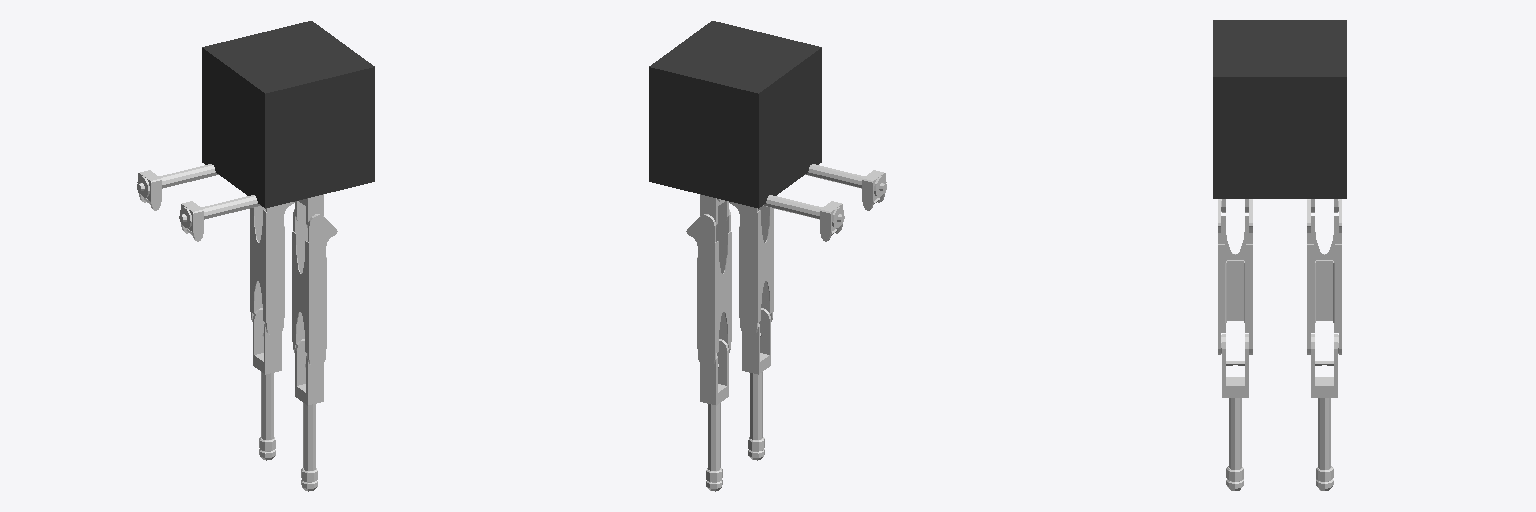
The robot description file, URDF, robot "biped":
<robot name="biped">
  <link name="base">
    <visual>
      <geometry>
        <box size="0.30 0.30 0.30"/>
      </geometry>
      <material name="gray">
        <color rgba="0.3 0.3 0.3 1.0"/>
      </material>
    </visual>
  </link>

  <!-- LEFT LEG -->
  <link name="L_hipassembly">
    <visual>
      <origin rpy="0.0 0.0 0.0" xyz="0.0 0.0 0.0"/>
      <geometry>
        <mesh filename="package://xpp_hyq/meshes/leg/hipassembly.dae" scale="1 1 1"/>
      </geometry>
      <material name="white"/>
    </visual>
  </link>
  <link name="L_upperleg">
    <visual>
      <origin rpy="0.0 0.0 0.0" xyz="0.0 0.0 0.0"/>
      <geometry>
        <mesh filename="package://xpp_hyq/meshes/leg/upperleg.dae" scale="1 1 1"/>
      </geometry>
      <material name="blue"/>
    </visual>
  </link>
  <link name="L_lowerleg">
    <visual>
      <geometry>
        <mesh filename="package://xpp_hyq/meshes/leg/lowerleg.dae" scale="1 1 1"/>
      </geometry>
      <material name="blue"/>
    </visual>
  </link>

  <joint name="L_haa_joint" type="revolute">
    <origin xyz="0.00000 0.1 -0.15000" rpy="2.0344439357957036 1.5707962290814481 -1.1071487177940917"/>
    <parent link="base"/>
    <child link="L_hipassembly"/>
    <limit effort="200" lower="-1.6" upper="1.6" velocity="1.0"/>
    <axis xyz="0 0 1"/>
  </joint>
  <joint name="L_hfe_joint" type="revolute">
    <origin xyz="0.08000 0.00000 0.00000" rpy="1.5707963705062866 -0.0 0.0"/>
    <parent link="L_hipassembly"/>
    <child link="L_upperleg"/>
    <limit effort="200" lower="-1.6" upper="1.6" velocity="1.0"/>
    <axis xyz="0 0 1"/>
  </joint>
  <joint name="L_kfe_joint" type="revolute">
    <origin xyz="0.35000 0.00000 0.00000" rpy="0.0 0.0 0.0"/>
    <parent link="L_upperleg"/>
    <child link="L_lowerleg"/>
    <limit effort="200" lower="-1.6" upper="1.6" velocity="1.0"/>
    <axis xyz="0 0 1"/>
  </joint>



  <!-- RIGHT LEG -->
  <link name="R_hipassembly">
    <visual>
      <origin rpy="0.0 0.0 0.0" xyz="0.0 0.0 0.0"/>
      <geometry>
        <mesh filename="package://xpp_hyq/meshes/leg/hipassembly.dae" scale="1 1 1"/>
      </geometry>
      <material name="white"/>
    </visual>
  </link>
  <link name="R_upperleg">
    <visual>
      <origin rpy="0.0 0.0 0.0" xyz="0.0 0.0 0.0"/>
      <geometry>
        <mesh filename="package://xpp_hyq/meshes/leg/upperleg.dae" scale="1 1 1"/>
      </geometry>
      <material name="blue"/>
    </visual>
  </link>
  <link name="R_lowerleg">
    <visual>
      <geometry>
        <mesh filename="package://xpp_hyq/meshes/leg/lowerleg.dae" scale="1 1 1"/>
      </geometry>
      <material name="blue"/>
    </visual>
  </link>

  <joint name="R_haa_joint" type="revolute">
    <origin xyz="0.00000 -0.1 -0.15000" rpy="2.0344439357957036 1.5707962290814481 -1.1071487177940917"/>
    <parent link="base"/>
    <child link="R_hipassembly"/>
    <limit effort="200" lower="-1.6" upper="1.6" velocity="1.0"/>
    <axis xyz="0 0 1"/>
  </joint>
  <joint name="R_hfe_joint" type="revolute">
    <origin xyz="0.08000 0.00000 0.00000" rpy="1.5707963705062866 -0.0 0.0"/>
    <parent link="R_hipassembly"/>
    <child link="R_upperleg"/>
    <limit effort="200" lower="-1.6" upper="1.6" velocity="1.0"/>
    <axis xyz="0 0 1"/>
  </joint>
  <joint name="R_kfe_joint" type="revolute">
    <origin xyz="0.35000 0.00000 0.00000" rpy="0.0 0.0 0.0"/>
    <parent link="R_upperleg"/>
    <child link="R_lowerleg"/>
    <limit effort="200" lower="-1.6" upper="1.6" velocity="1.0"/>
    <axis xyz="0 0 1"/>
  </joint>


</robot>

--- What the picture shows (computed from the rendered views, not written in the file) ---
The picture shows the robot from 3 angles, left to right: view 1: azimuth 30°, elevation 25°; view 2: azimuth 150°, elevation 25°; view 3: azimuth 270°, elevation 25°; orthographic projection.
Robot: biped — 7 links, 6 joints (6 revolute); root link base; default pose: every joint at zero.
Visible links, largest first — view 1: base, R_upperleg, L_upperleg, L_lowerleg, R_lowerleg, R_hipassembly, L_hipassembly; view 2: base, L_upperleg, R_upperleg, L_lowerleg, R_lowerleg, L_hipassembly, R_hipassembly; view 3: base, L_upperleg, R_upperleg, L_lowerleg, R_lowerleg.
Boxes of the visible links, x1,y1,x2,y2 form: base: [202, 21, 374, 208]; R_upperleg: [292, 209, 337, 366]; L_upperleg: [250, 202, 294, 335]; L_lowerleg: [253, 308, 281, 460]; R_lowerleg: [295, 339, 323, 491]; R_hipassembly: [179, 194, 323, 241]; L_hipassembly: [137, 164, 218, 210]; base: [649, 21, 821, 208]; L_upperleg: [686, 209, 731, 366]; R_upperleg: [729, 202, 773, 335]; L_lowerleg: [700, 339, 728, 491]; R_lowerleg: [742, 308, 770, 460]; L_hipassembly: [700, 194, 844, 241]; R_hipassembly: [805, 164, 886, 210]; base: [1213, 20, 1346, 198]; L_upperleg: [1307, 199, 1341, 354]; R_upperleg: [1218, 199, 1252, 354]; L_lowerleg: [1311, 334, 1338, 490]; R_lowerleg: [1221, 334, 1248, 490].
Bounding box of the posed robot: 0.5008 × 0.3 × 1.09 m (x, y, z).
6 mesh visuals loaded from 3 distinct referenced files (3 Collada DAE).